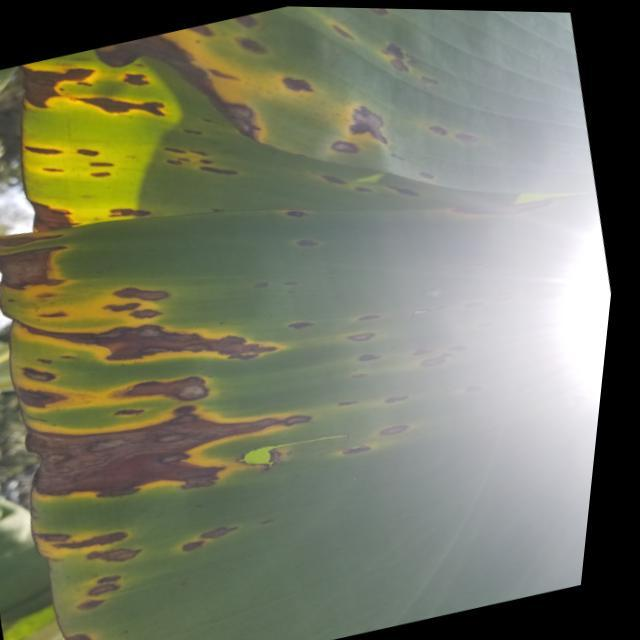Early_rust: (0, 28, 517, 634)
